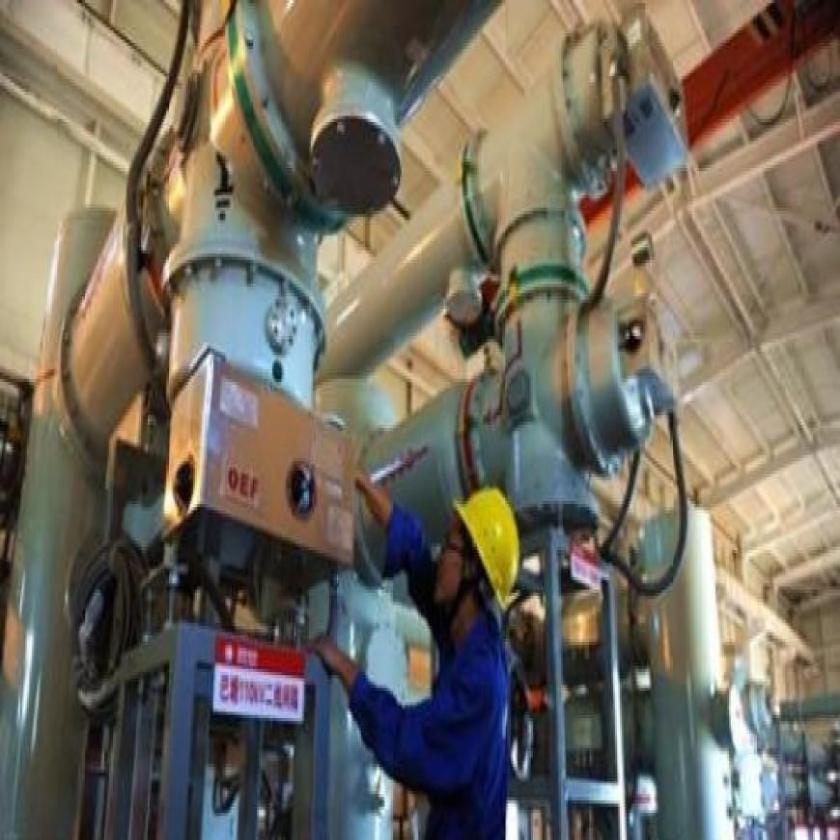Con_casco: (429, 478, 525, 639)
